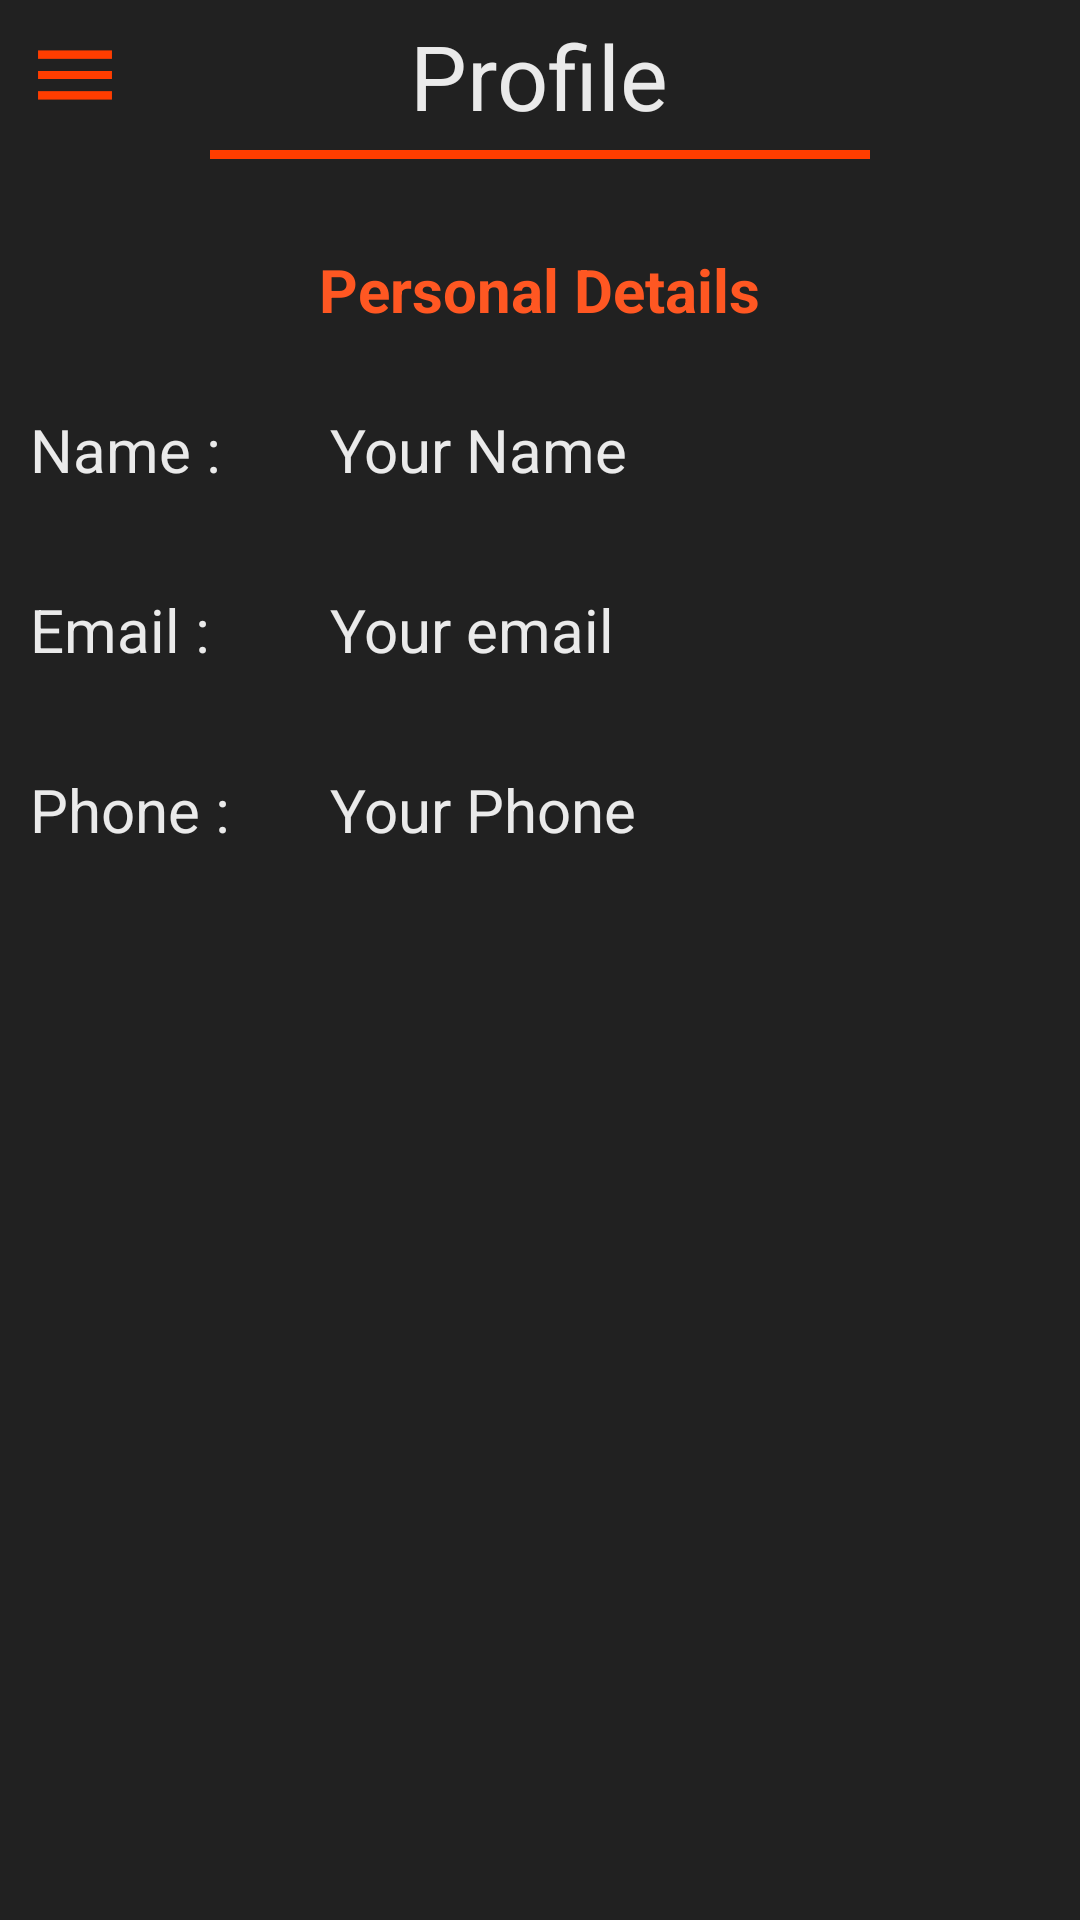

Where icons sit on this 1080w x 1920h app screen, as (x1, y1, x2, y2):
side nav: (38, 50, 112, 100)
